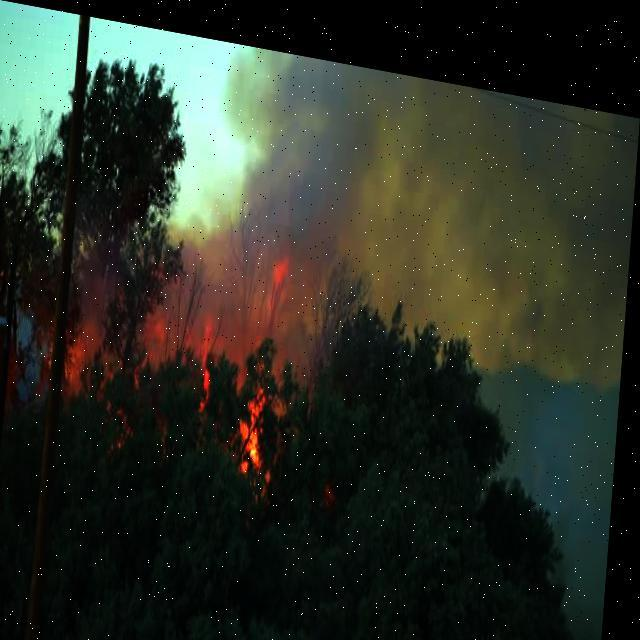Fire: (64, 216, 315, 473)
